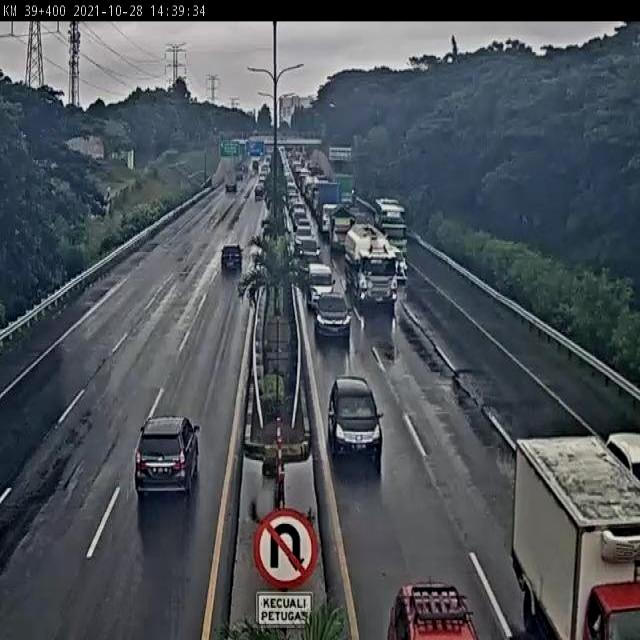Car: (323, 370, 392, 475), (134, 414, 201, 496), (313, 290, 352, 342), (306, 263, 335, 312), (221, 244, 242, 274)
Truck: (510, 414, 640, 640), (343, 220, 403, 314)
